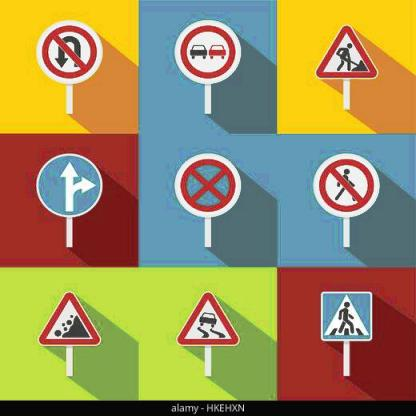No U-turn: (27, 18, 115, 87)
